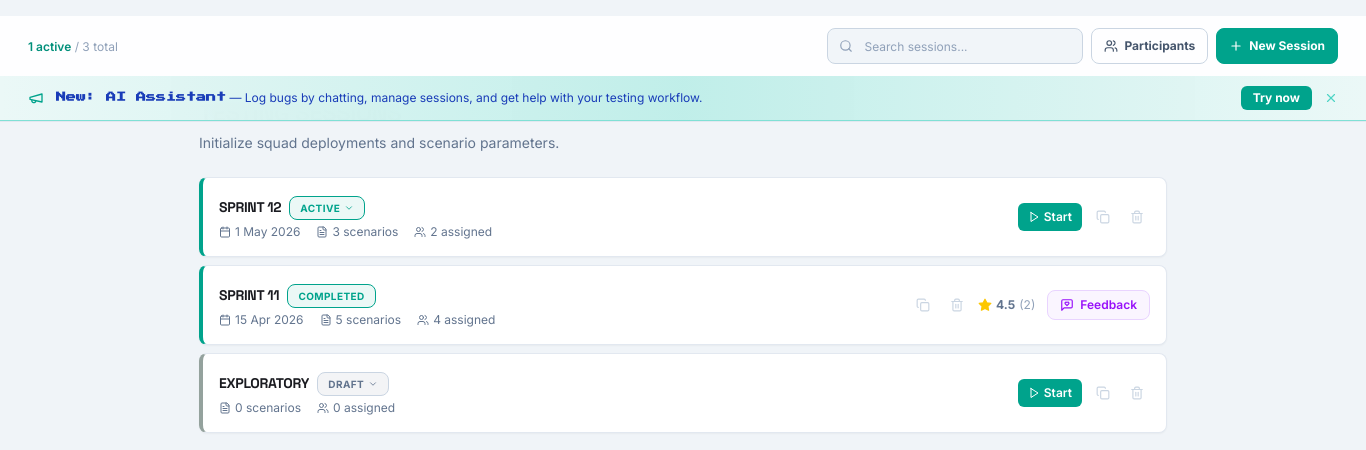
SessionsListPage › search filters sessions by name
Type "Sprint 12" into the field with placeholder "Search sessions..." at (956, 46), box [828,28,1084,64]
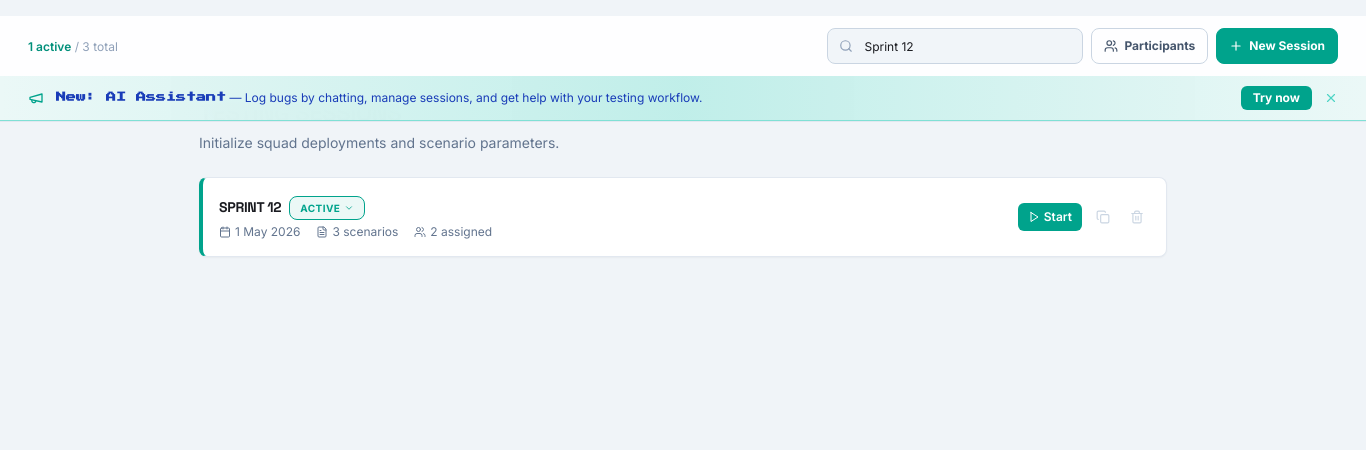
Expected: the heading "Sprint 12" is shown, [219,197,281,217]
Result: the link "Exploratory" is gone
